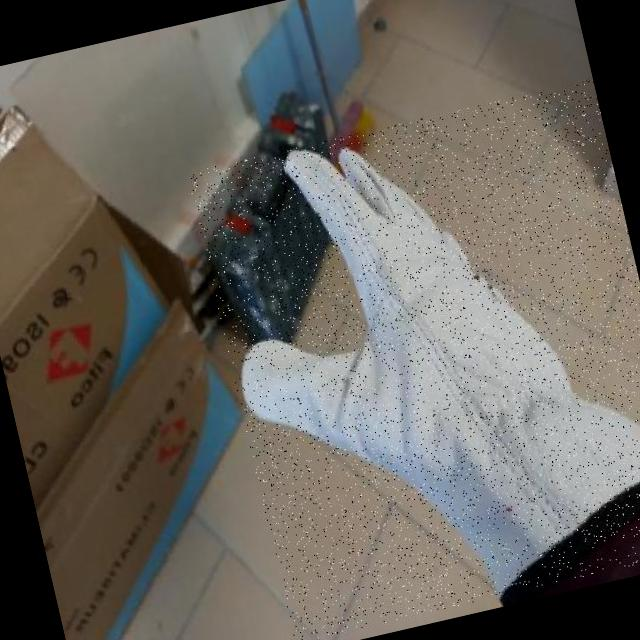gloves: (189, 85, 640, 640)
